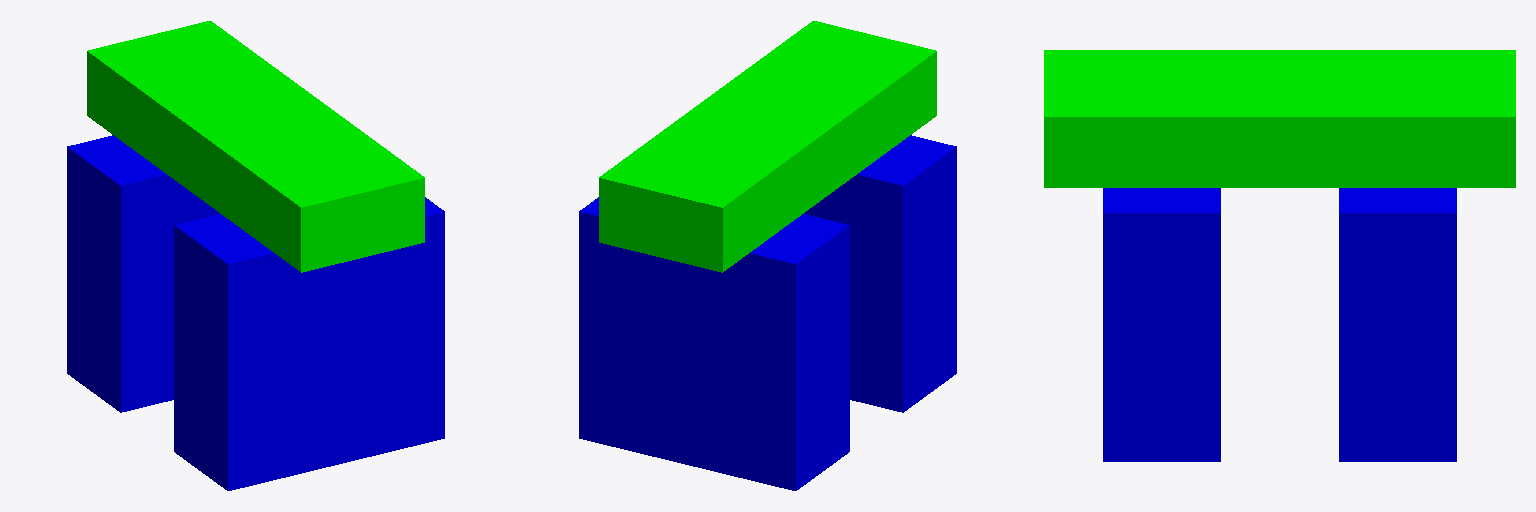
URDF robot description (robot):
<robot name = "robot">
    <link name="root">
        <inertial>
            <origin xyz="0.0 0.0 1.5" rpy="0 0 0"/>
            <mass value="1" />
            <inertia ixx="100" ixy="0" ixz="0" iyy="100" iyz="0" izz="100" />
        </inertial>
        <visual>
            <origin xyz="0.0 0.0 1.5" rpy="0 0 0"/>
            <geometry>
                <box size="0 0 0.0001" />
            </geometry>
            <material name="Green">
                <color rgba="0 1.0 0.0 1.0"/>
            </material>
        </visual>
        <collision>
            <origin xyz="0.0 0.0 1.5" rpy="0 0 0"/>
            <geometry>
                <box size="0 0 0.0001" />
            </geometry>
        </collision>
    </link>
    <joint name="root_000" type="revolute">
       <parent link="root"/>
       <child  link="000"/>
       <origin rpy="0 0 0" xyz="0.0 0.0 1.5" />
     <axis xyz="1 0 0"/>
       <limit effort="0.0" lower="-3.14159" upper="3.14159" velocity="0.0"/>
    </joint>
    <link name="000">
        <inertial>
            <origin xyz="0.0 0.3 0.0" rpy="0 0 0"/>
            <mass value="1" />
            <inertia ixx="100" ixy="0" ixz="0" iyy="100" iyz="0" izz="100" />
        </inertial>
        <visual>
            <origin xyz="0.0 0.3 0.0" rpy="0 0 0"/>
            <geometry>
                <box size="0.4 0.6 0.2" />
            </geometry>
            <material name="Green">
                <color rgba="0 1.0 0.0 1.0"/>
            </material>
        </visual>
        <collision>
            <origin xyz="0.0 0.3 0.0" rpy="0 0 0"/>
            <geometry>
                <box size="0.4 0.6 0.2" />
            </geometry>
        </collision>
    </link>
    <joint name="000_010" type="revolute">
       <parent link="000"/>
       <child  link="010"/>
       <origin rpy="0 0 0" xyz="0.0 0.6 -0.0" />
     <axis xyz="0 1 0"/>
       <limit effort="0.0" lower="-3.14159" upper="3.14159" velocity="0.0"/>
    </joint>
    <link name="010">
        <inertial>
            <origin xyz="0.0 0.3 -0.0" rpy="0 0 0"/>
            <mass value="1" />
            <inertia ixx="100" ixy="0" ixz="0" iyy="100" iyz="0" izz="100" />
        </inertial>
        <visual>
            <origin xyz="0.0 0.3 -0.0" rpy="0 0 0"/>
            <geometry>
                <box size="0.4 0.6 0.2" />
            </geometry>
            <material name="Green">
                <color rgba="0 1.0 0.0 1.0"/>
            </material>
        </visual>
        <collision>
            <origin xyz="0.0 0.3 -0.0" rpy="0 0 0"/>
            <geometry>
                <box size="0.4 0.6 0.2" />
            </geometry>
        </collision>
    </link>
    <joint name="010_010-100" type="revolute">
       <parent link="010"/>
       <child  link="010-100"/>
       <origin rpy="0 0 0" xyz="0.0 0.3 -0.1" />
     <axis xyz="0 0 1"/>
       <limit effort="0.0" lower="-3.14159" upper="3.14159" velocity="0.0"/>
    </joint>
    <link name="010-100">
        <inertial>
            <origin xyz="0.0 0.0 -0.35" rpy="0 0 0"/>
            <mass value="1" />
            <inertia ixx="100" ixy="0" ixz="0" iyy="100" iyz="0" izz="100" />
        </inertial>
        <visual>
            <origin xyz="0.0 0.0 -0.35" rpy="0 0 0"/>
            <geometry>
                <box size="0.7 0.3 0.7" />
            </geometry>
            <material name="Blue">
                <color rgba="0 0.0 1.0 1.0"/>
            </material>
        </visual>
        <collision>
            <origin xyz="0.0 0.0 -0.35" rpy="0 0 0"/>
            <geometry>
                <box size="0.7 0.3 0.7" />
            </geometry>
        </collision>
    </link>
    <joint name="000_000-100" type="revolute">
       <parent link="000"/>
       <child  link="000-100"/>
       <origin rpy="0 0 0" xyz="0.0 0.3 -0.1" />
     <axis xyz="0 0 1"/>
       <limit effort="0.0" lower="-3.14159" upper="3.14159" velocity="0.0"/>
    </joint>
    <link name="000-100">
        <inertial>
            <origin xyz="0.0 0.0 -0.35" rpy="0 0 0"/>
            <mass value="1" />
            <inertia ixx="100" ixy="0" ixz="0" iyy="100" iyz="0" izz="100" />
        </inertial>
        <visual>
            <origin xyz="0.0 0.0 -0.35" rpy="0 0 0"/>
            <geometry>
                <box size="0.7 0.3 0.7" />
            </geometry>
            <material name="Blue">
                <color rgba="0 0.0 1.0 1.0"/>
            </material>
        </visual>
        <collision>
            <origin xyz="0.0 0.0 -0.35" rpy="0 0 0"/>
            <geometry>
                <box size="0.7 0.3 0.7" />
            </geometry>
        </collision>
    </link>
</robot>

--- What the picture shows (computed from the rendered views, not written in the file) ---
The picture shows the robot from 3 angles, left to right: view 1: azimuth 30°, elevation 25°; view 2: azimuth 150°, elevation 25°; view 3: azimuth 270°, elevation 25°; orthographic projection.
Robot: robot — 5 links, 4 joints (4 revolute); root link root; default pose: all joints at 0.
Visible links, largest first — view 1: 000-100, 000, 010-100, 010; view 2: 010-100, 010, 000-100, 000; view 3: 000, 010, 010-100, 000-100.
Link boxes in pixels (box(x1,y1,x2,y2)): 000-100: box(174, 197, 444, 490); 000: box(194, 99, 424, 272); 010-100: box(67, 135, 219, 412); 010: box(87, 21, 316, 193); 010-100: box(579, 197, 849, 490); 010: box(599, 99, 829, 272); 000-100: box(804, 135, 956, 412); 000: box(707, 21, 936, 193); 000: box(1044, 50, 1279, 187); 010: box(1280, 50, 1515, 187); 010-100: box(1339, 188, 1456, 461); 000-100: box(1103, 188, 1220, 461).
Size in the robot's own frame: 0.7 by 1.2 by 0.9 metres.
Geometry: primitives only (box / cylinder / sphere), no mesh files.